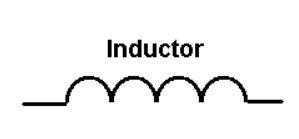inductor: (59, 69, 262, 120)
